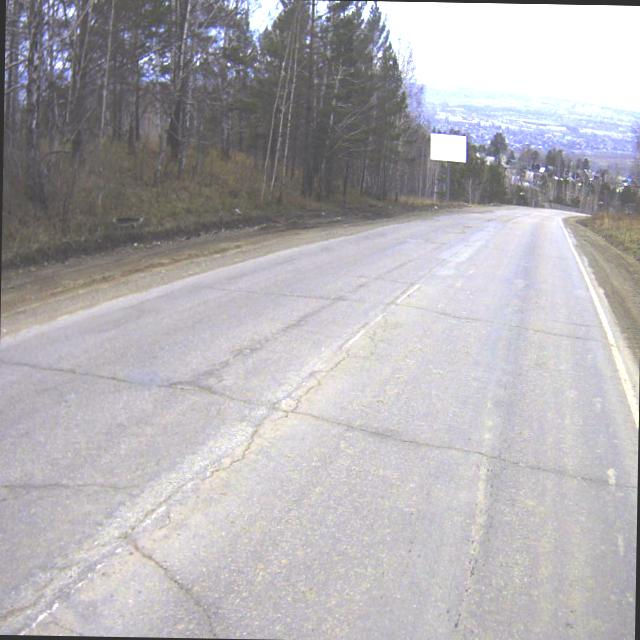road: (0, 207, 639, 640)
